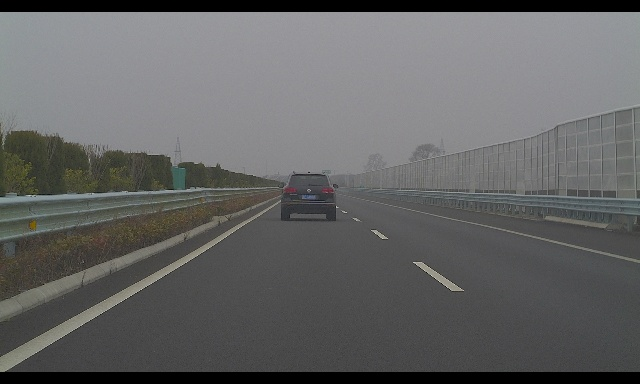car: (278, 171, 339, 220)
